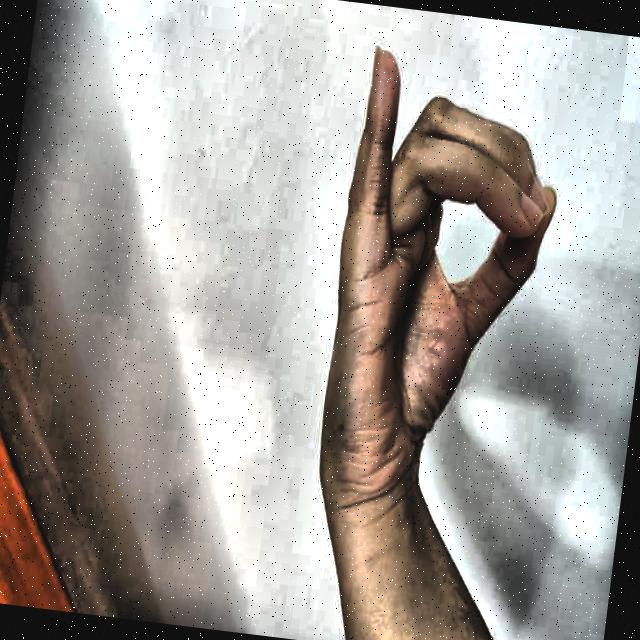Ou: (294, 22, 582, 566)
